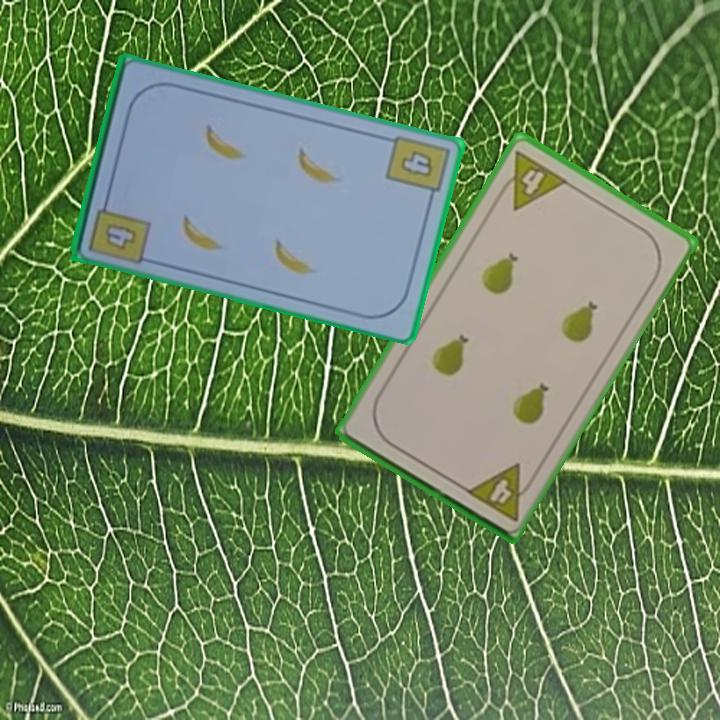4b: (382, 130, 453, 205), (101, 219, 140, 252)
4p: (492, 146, 571, 213), (462, 459, 539, 524)
